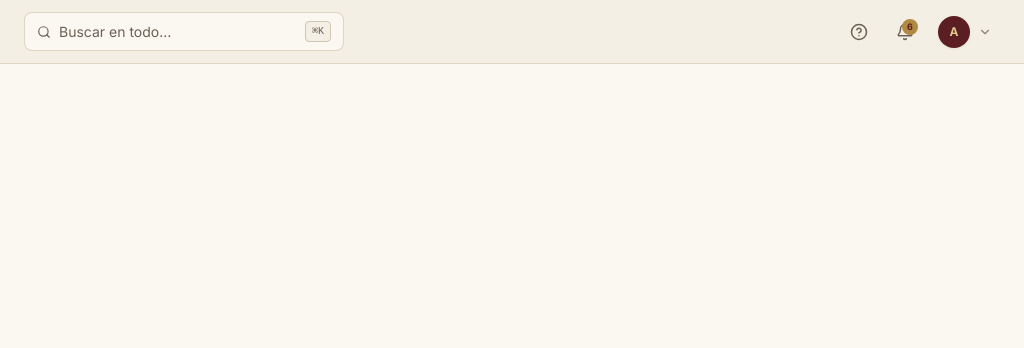
APPLE-SHELL-L2-02 notification times and stale poll › Spanish session shows whole-word relative times, not unit letters
What coordinates should you click on to do the following:
click the button named "Notificaciones, 6 sin leer"
I would click on:
 (905, 32)
Its box is [888,14,922,48].
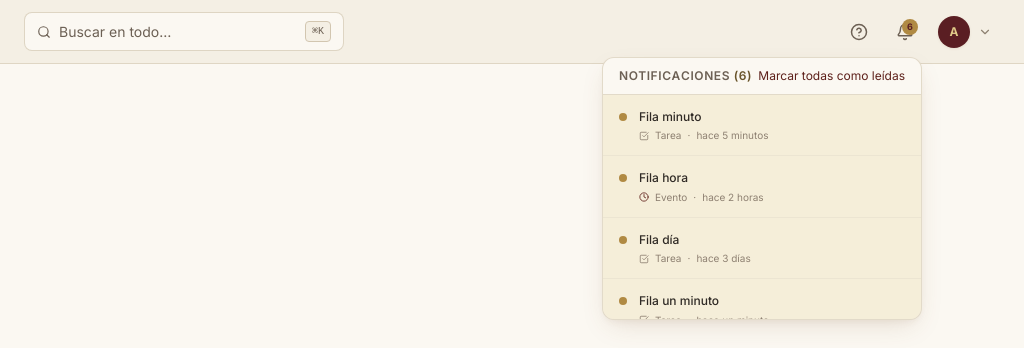
Now the text "hace 5 minutos" is shown, box [696,128,768,143]
Now the text "hace 2 horas" is shown, box [702,190,764,204]
Now the text "hace 3 días" is shown, box [696,251,751,266]
